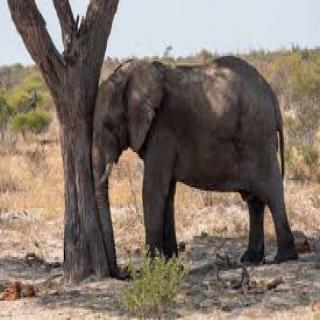Elephant: (85, 49, 301, 271)
